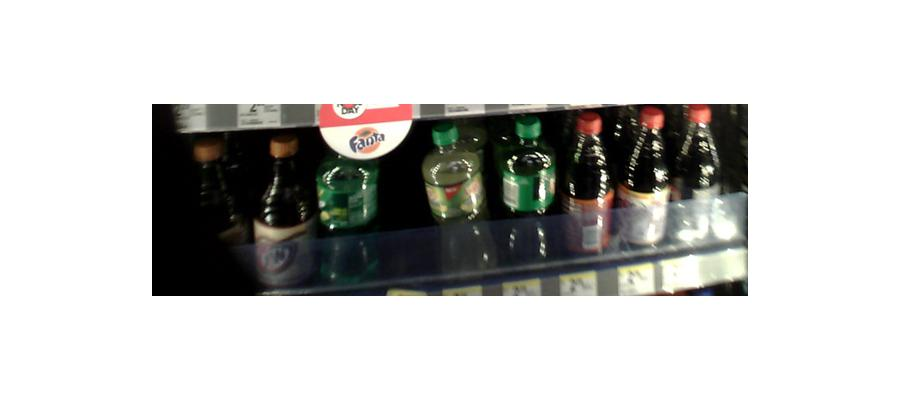bottle: (312, 117, 392, 287), (423, 123, 489, 276), (493, 111, 556, 267), (255, 129, 310, 290), (559, 109, 611, 257), (615, 108, 667, 253), (672, 107, 721, 248)
